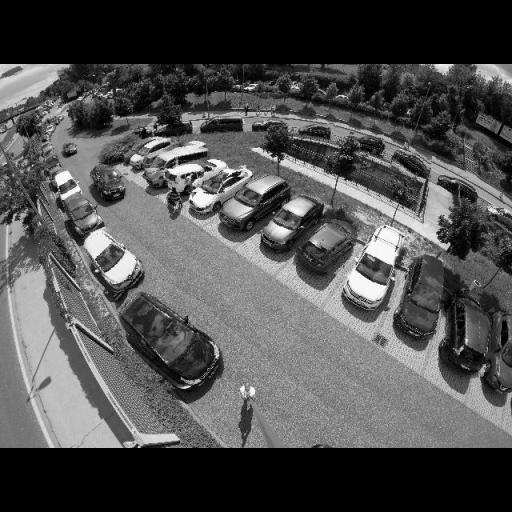busy: (118, 276, 224, 394), (442, 289, 504, 380), (395, 254, 453, 342), (344, 228, 405, 311), (84, 224, 146, 293), (262, 194, 324, 250), (296, 218, 357, 274), (223, 177, 287, 226), (146, 138, 208, 185), (190, 168, 252, 213), (484, 312, 511, 394), (168, 160, 224, 192), (88, 164, 131, 204), (128, 139, 176, 168), (69, 200, 104, 234), (438, 176, 477, 205), (391, 151, 431, 177), (200, 116, 244, 134), (52, 170, 82, 194), (299, 124, 335, 140), (489, 203, 512, 228), (253, 118, 291, 132), (356, 136, 385, 154), (62, 141, 80, 157)
